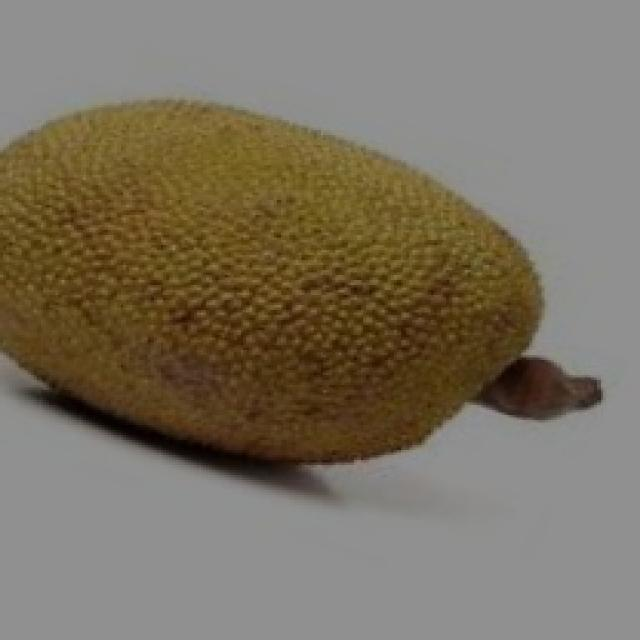Fruit: (0, 70, 403, 482), (224, 80, 576, 495)
